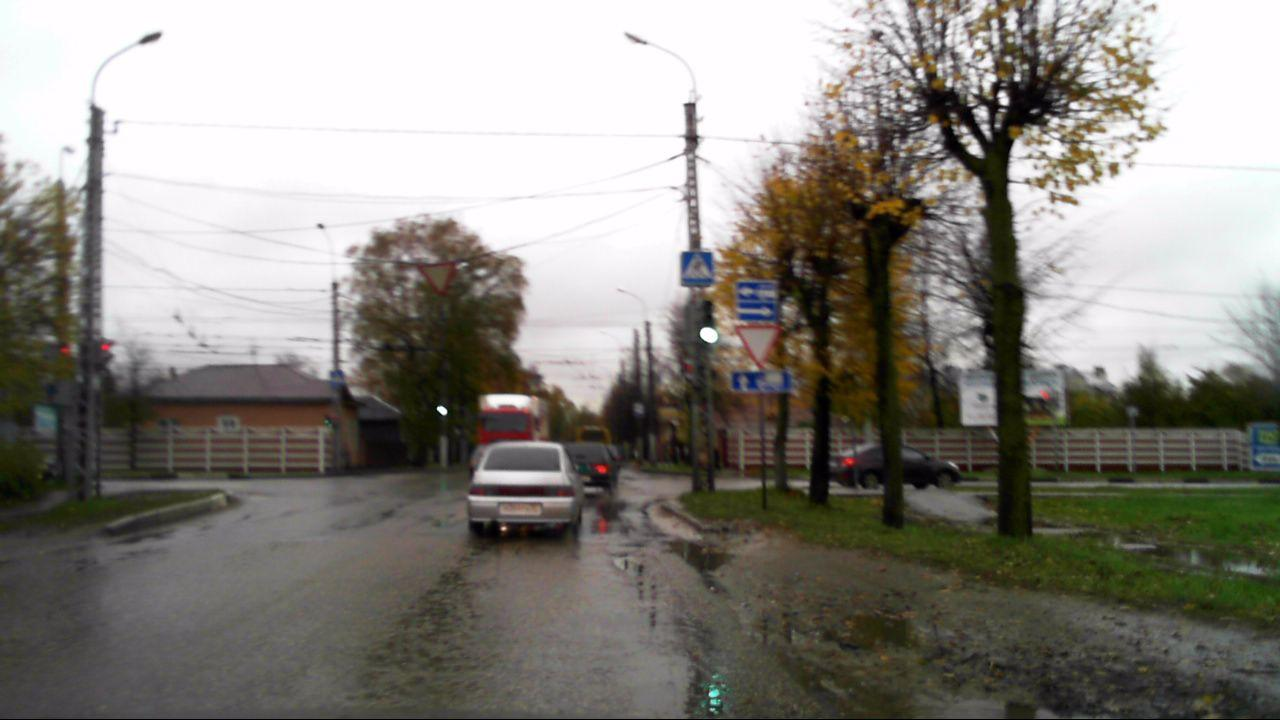2_4: (733, 323, 782, 367), (420, 260, 457, 294)
5_13_1: (736, 281, 777, 323)
5_19_1: (678, 252, 716, 287)
5_19_2: (330, 371, 346, 387)
6_15_1: (731, 371, 790, 394)
